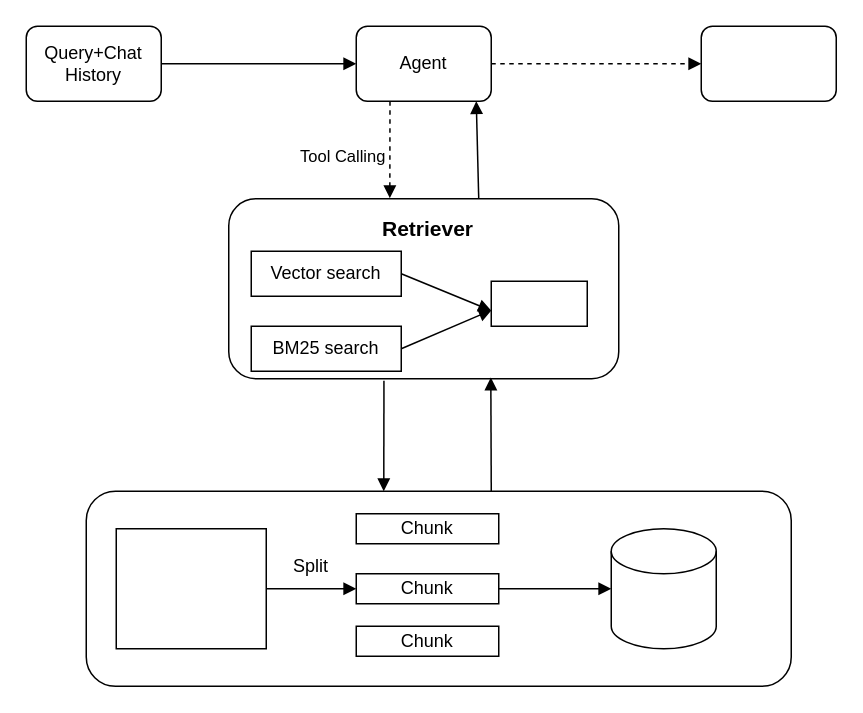
This 863x713 diagram has some shape labels left out. The centre of each missing label's shape, as x and y in pixels:
"Answer" belongs at point (768, 63).
"Database" belongs at point (663, 588).
"Documents" belongs at point (190, 588).
"reranker" belongs at point (538, 303).
